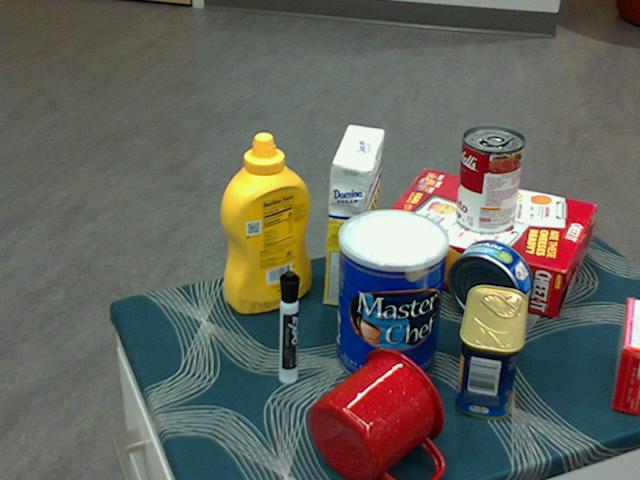cracker_box: (374, 171, 593, 315)
gelatin_box: (611, 298, 639, 416)
large_marker: (276, 270, 298, 385)
master_chef_can: (336, 209, 450, 388)
mug: (309, 348, 446, 479)
mustard_bottle: (219, 132, 311, 314)
potted_meat_can: (457, 285, 528, 420)
sugar_box: (322, 125, 385, 311)
tomato_soup_can: (456, 127, 525, 235)
tuna_fish_can: (448, 239, 534, 323)
